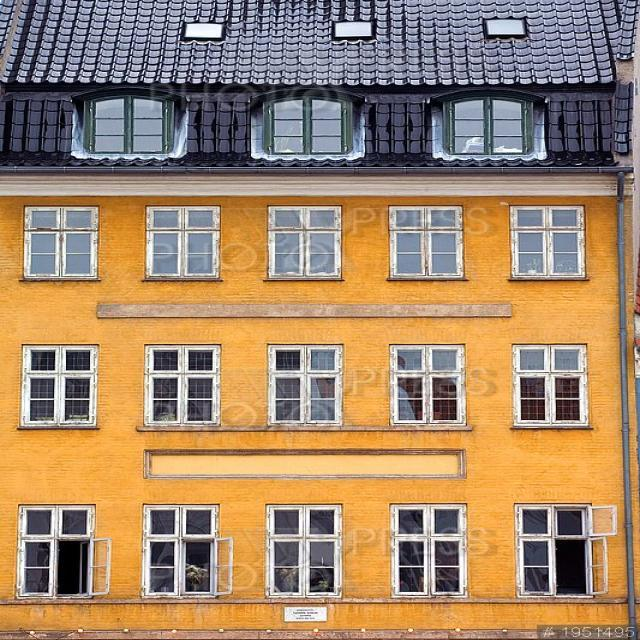Window: (390, 507, 455, 591), (272, 509, 336, 593), (22, 350, 94, 424), (144, 346, 213, 422), (275, 351, 341, 427), (518, 347, 584, 422), (22, 511, 84, 589), (266, 102, 348, 160), (516, 212, 585, 280), (268, 210, 338, 276), (398, 352, 461, 422), (150, 212, 216, 278), (392, 210, 458, 274), (26, 210, 90, 274), (146, 506, 191, 592), (520, 508, 561, 594), (453, 103, 526, 151), (92, 101, 160, 149), (187, 24, 226, 43), (490, 20, 527, 38), (334, 23, 371, 34)
